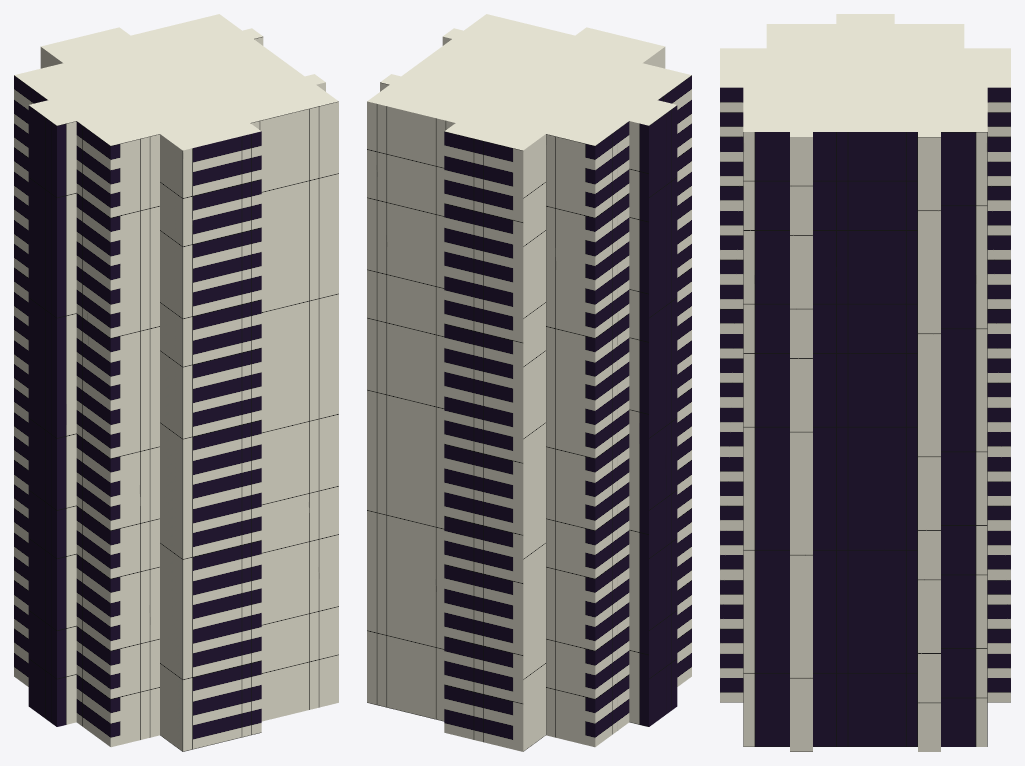
Rendered from Skyscraper_3.fbx.
The picture shows the model from 3 angles, left to right: view 1: azimuth 30°, elevation 25°; view 2: azimuth 150°, elevation 25°; view 3: azimuth 270°, elevation 25°; orthographic projection. The views are drawn at different scales.
Visible parts, largest first — view 1: Skyscraper_3; view 2: Skyscraper_3; view 3: Skyscraper_3.
Part boxes in pixels (x1,y1,x2,y2): Skyscraper_3: (14, 14, 338, 751); Skyscraper_3: (367, 14, 691, 751); Skyscraper_3: (720, 14, 1010, 751).
Size of the model in its own units: 3750 by 8750 by 3750.
1 material, 1 textured.
